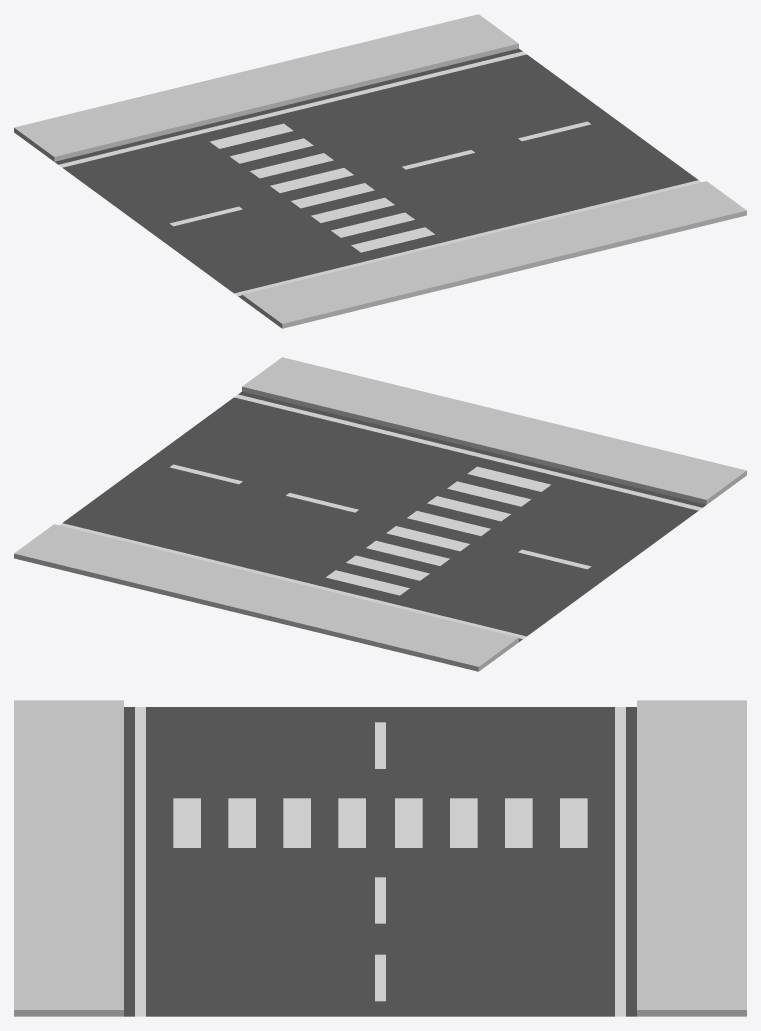
Rendered from road_straight_walkable.glb.
3 renders of one model, top to bottom at view 1: azimuth 30°, elevation 25°; view 2: azimuth 150°, elevation 25°; view 3: azimuth 270°, elevation 25°, orthographic. The views are drawn at different scales.
Parts seen in each view (by area): view 1: SPW_Urban_Road 2way_03; view 2: SPW_Urban_Road 2way_03; view 3: SPW_Urban_Road 2way_03.
Part boxes in pixels (x1,y1,x2,y2): SPW_Urban_Road 2way_03: [14, 14, 746, 328]; SPW_Urban_Road 2way_03: [14, 357, 746, 671]; SPW_Urban_Road 2way_03: [14, 700, 746, 1016].
Bounding box in the file's own units: 20 × 0.2 × 20.
1 material, 1 textured.
